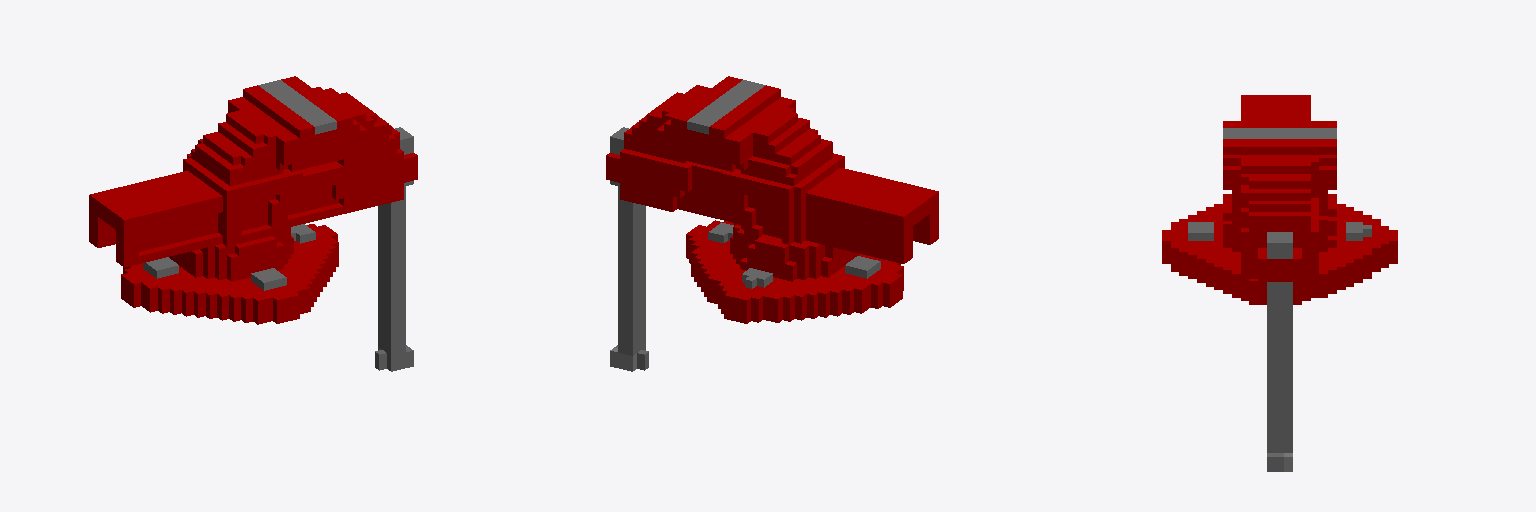
3 views of the same model, side by side, from view 1: azimuth 30°, elevation 25°; view 2: azimuth 150°, elevation 25°; view 3: azimuth 270°, elevation 25° (orthographic).
Visible parts, largest first — view 1: bench_vise_48; view 2: bench_vise_48; view 3: bench_vise_48.
Boxes of the visible parts, <box> form: bench_vise_48: <box>89,76,417,371</box>; bench_vise_48: <box>606,76,938,371</box>; bench_vise_48: <box>1162,95,1397,471</box>.
Size of the model in its own units: 4 by 3.6 by 2.7.
Materials: 1 (1 with a texture image).